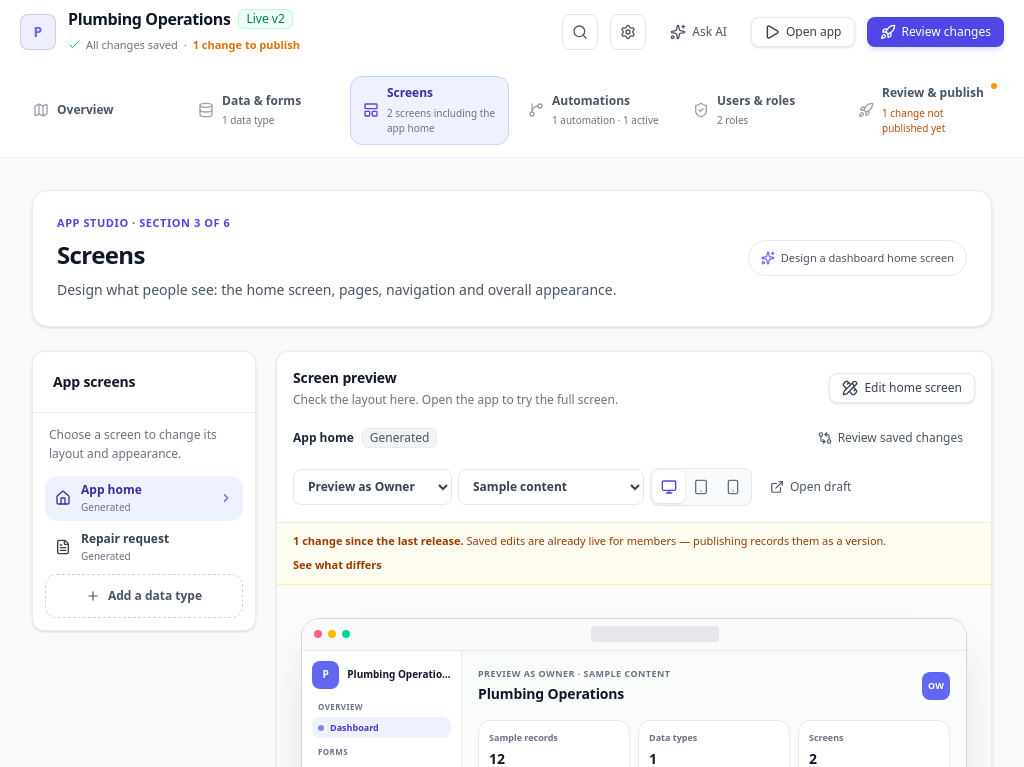
it: AppStudio › explains that saved changes in a published app are already live
Expected: the button named "Tablet preview" is shown, [685,471,717,503]
Expected: the dropdown named "Preview data" is shown, [458,469,644,505]
Click the button "Review saved changes" at (890, 438), box [806,424,975,452]
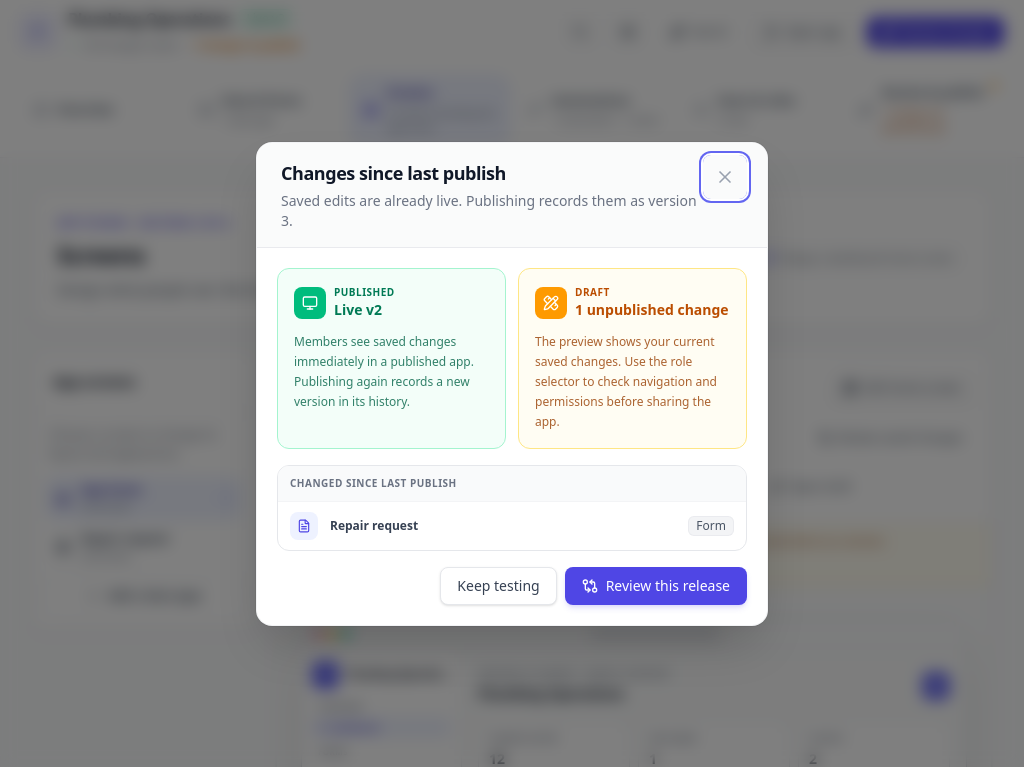
Expected: the text "Changes since last publish" is shown, [281,161,506,185]
Expected: the text "Members see saved changes immediately in a published app." is shown, [294,333,474,410]
